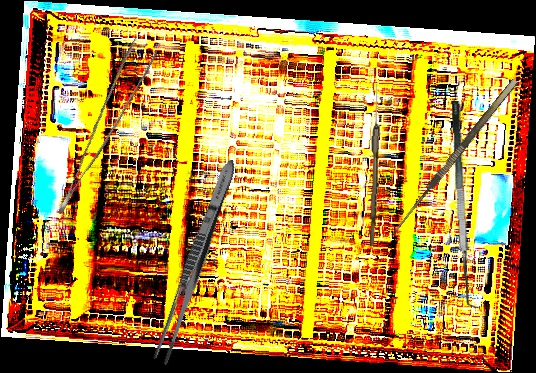Dressing Forceps: (151, 156, 241, 367)
Hook Surgical: (387, 78, 527, 245)
Spatula Surgical: (450, 100, 485, 309)
Surgical Spoon: (369, 83, 381, 247)
Tissue Forceps: (30, 36, 167, 215)
